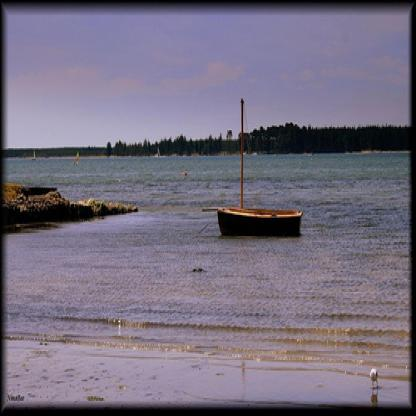boat: (216, 97, 303, 239)
